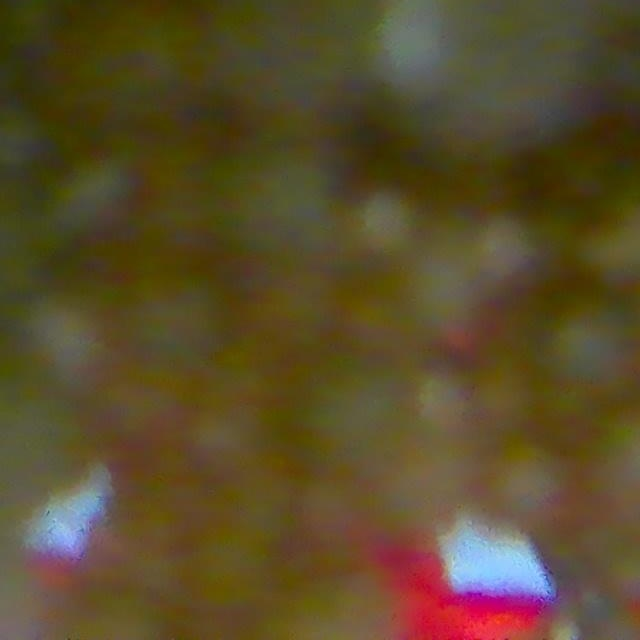SeaGrape: (129, 272, 232, 372), (544, 303, 636, 396), (27, 298, 115, 391), (52, 152, 142, 240), (485, 441, 573, 526), (347, 187, 423, 264), (469, 365, 539, 437), (0, 106, 54, 180)
